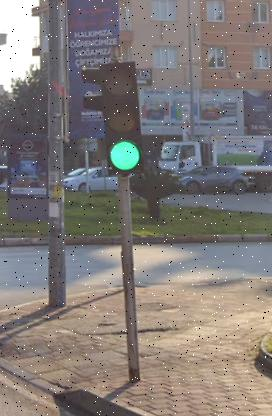greenlight: (102, 62, 144, 172)
